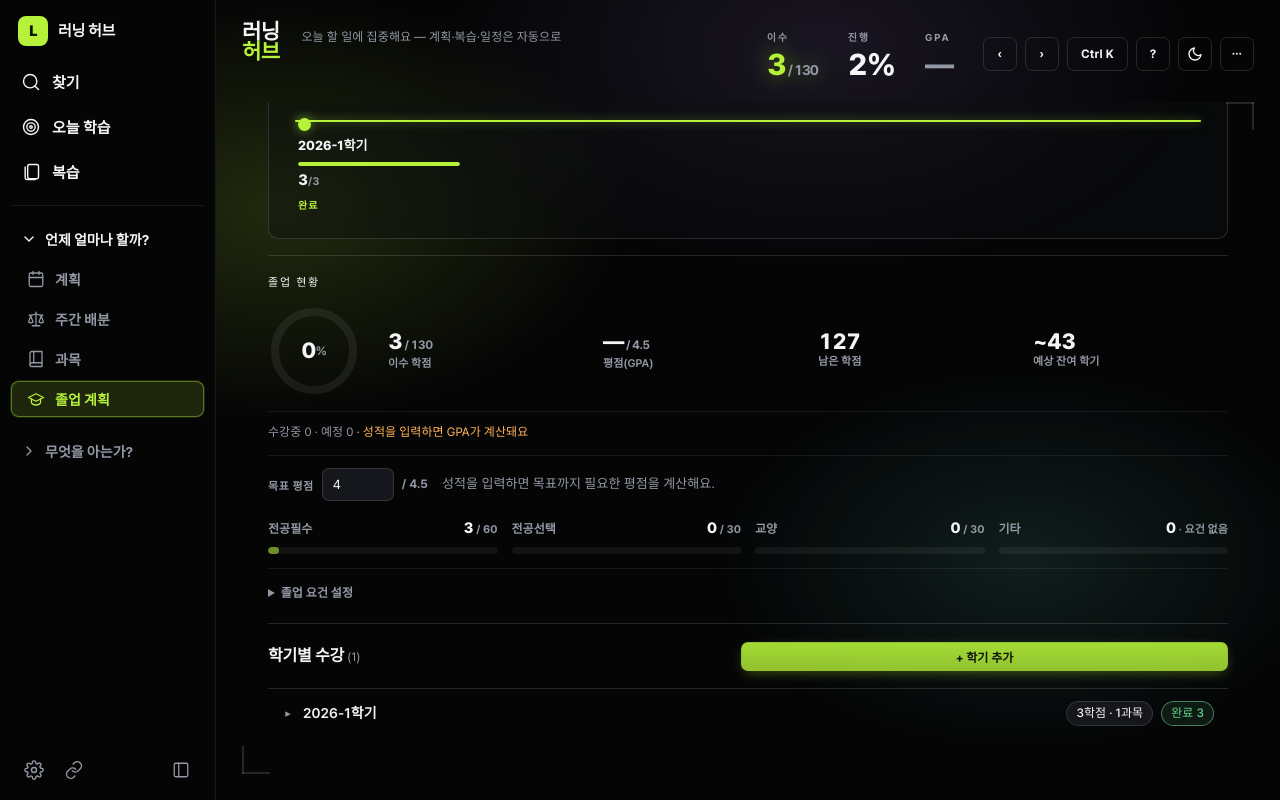
Test: 끝난 학기의 과목에는 「학습 항목으로」가 없다 — 이제 와 만들 일이 없다
The image size is (1280, 800).
(page scrolled)
What coordinates should you click on to do the following:
click the text with class "ds-itemname"
I would click on:
 (340, 713)
Its box is [303,705,377,721].
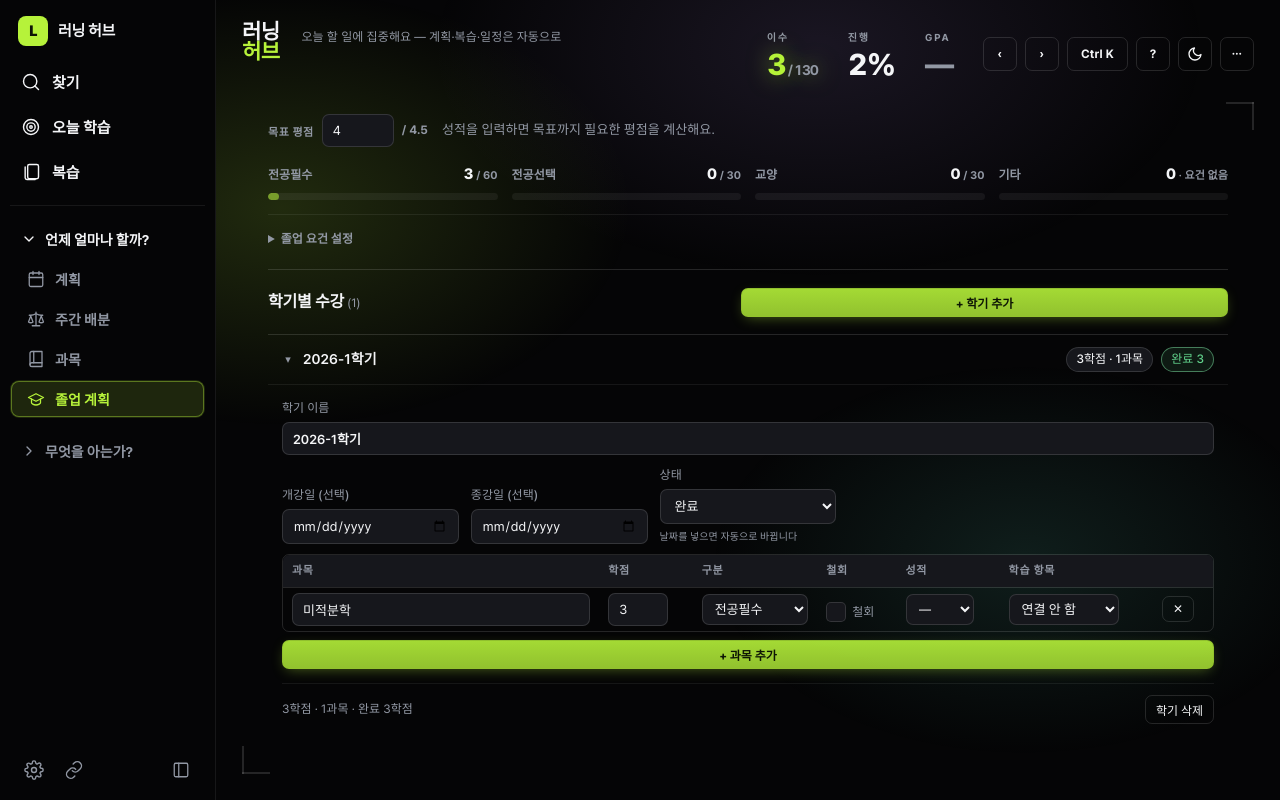
Check: the number field named "학점" is shown, box [608,593,668,626]
